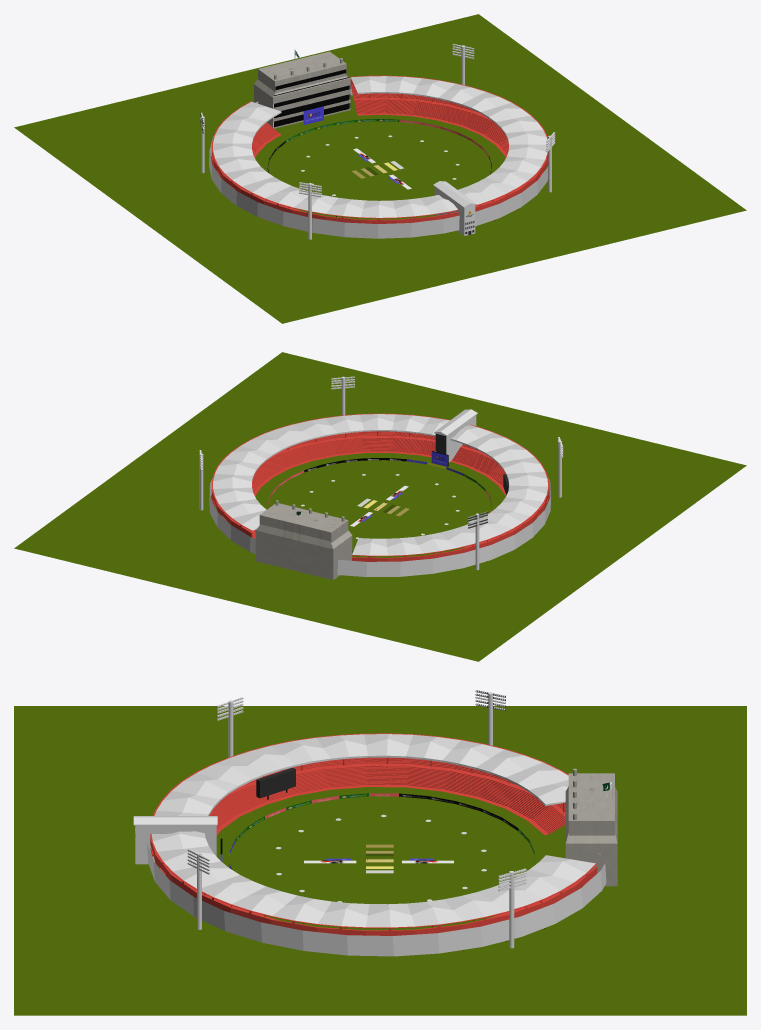
File: karachi stadium.fbx
3 views of the same model, one above another, from view 1: azimuth 30°, elevation 25°; view 2: azimuth 150°, elevation 25°; view 3: azimuth 270°, elevation 25° (orthographic). The views are drawn at different scales.
Parts seen in each view (by area): view 1: Plane, Cube, Circle, Cube.002, Plane.001, Circle.001, Cube.001; view 2: Plane, Cube, Cube.002, Circle, Circle.001, Cube.001; view 3: Plane, Cube, Circle, Cube.002, Cube.001, Circle.001, Cube.030, Cube.003.
Part boxes in pixels (box(x1,y1,x2,y2)): Plane: box(14, 14, 746, 323); Cube: box(211, 75, 548, 235); Circle: box(209, 86, 548, 238); Cube.002: box(254, 51, 350, 128); Plane.001: box(274, 77, 349, 127); Circle.001: box(267, 119, 491, 174); Cube.001: box(434, 187, 475, 235); Plane: box(14, 352, 746, 661); Cube: box(211, 413, 549, 569); Cube.002: box(255, 500, 352, 579); Circle: box(209, 477, 550, 576); Circle.001: box(268, 458, 491, 552); Cube.001: box(435, 415, 476, 462); Plane: box(14, 706, 746, 1015); Cube: box(150, 733, 597, 953); Circle: box(147, 841, 606, 956); Cube.002: box(565, 768, 617, 886); Cube.001: box(135, 825, 216, 864); Circle.001: box(229, 793, 534, 869); Cube.030: box(133, 816, 217, 825); Cube.003: box(256, 767, 295, 798).
Bounding box in the file's own units: 95524 × 11806 × 95524.
39 materials, 9 textured.
